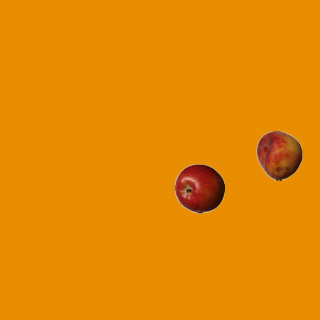Apple Braeburn: (174, 163, 224, 213)
Peach: (254, 130, 304, 180)
